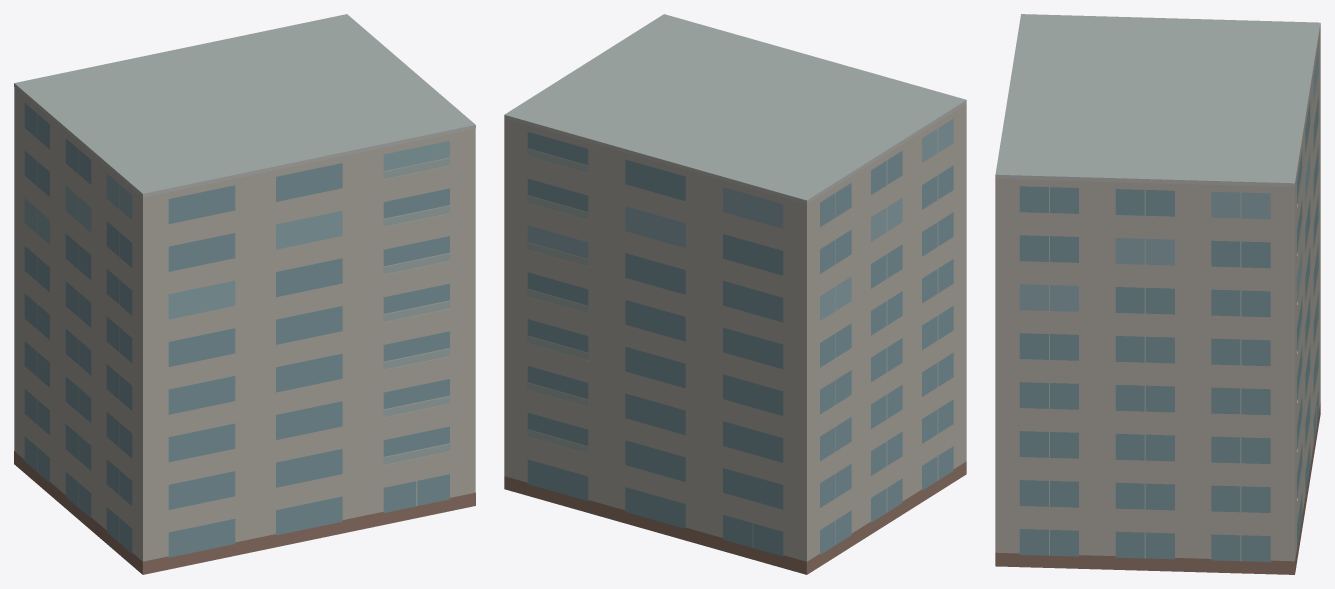
The model's file is residential-fba175e4-0cac-455d-86f1-8826872550dc.glb.
The picture shows the model from 3 angles, left to right: view 1: azimuth 30°, elevation 25°; view 2: azimuth 150°, elevation 25°; view 3: azimuth 270°, elevation 25°; orthographic projection. The views are drawn at different scales.
Visible parts, largest first — view 1: residential-fba175e4-0cac-455d-86f1-8826872550dc.tmp; view 2: residential-fba175e4-0cac-455d-86f1-8826872550dc.tmp; view 3: residential-fba175e4-0cac-455d-86f1-8826872550dc.tmp.
Boxes of the visible parts, x1,y1,x2,y2 form: residential-fba175e4-0cac-455d-86f1-8826872550dc.tmp: (14,14,475,574); residential-fba175e4-0cac-455d-86f1-8826872550dc.tmp: (504,14,966,574); residential-fba175e4-0cac-455d-86f1-8826872550dc.tmp: (995,14,1320,574).
Size of the model in its own units: 22.62 by 24.4 by 18.37.
